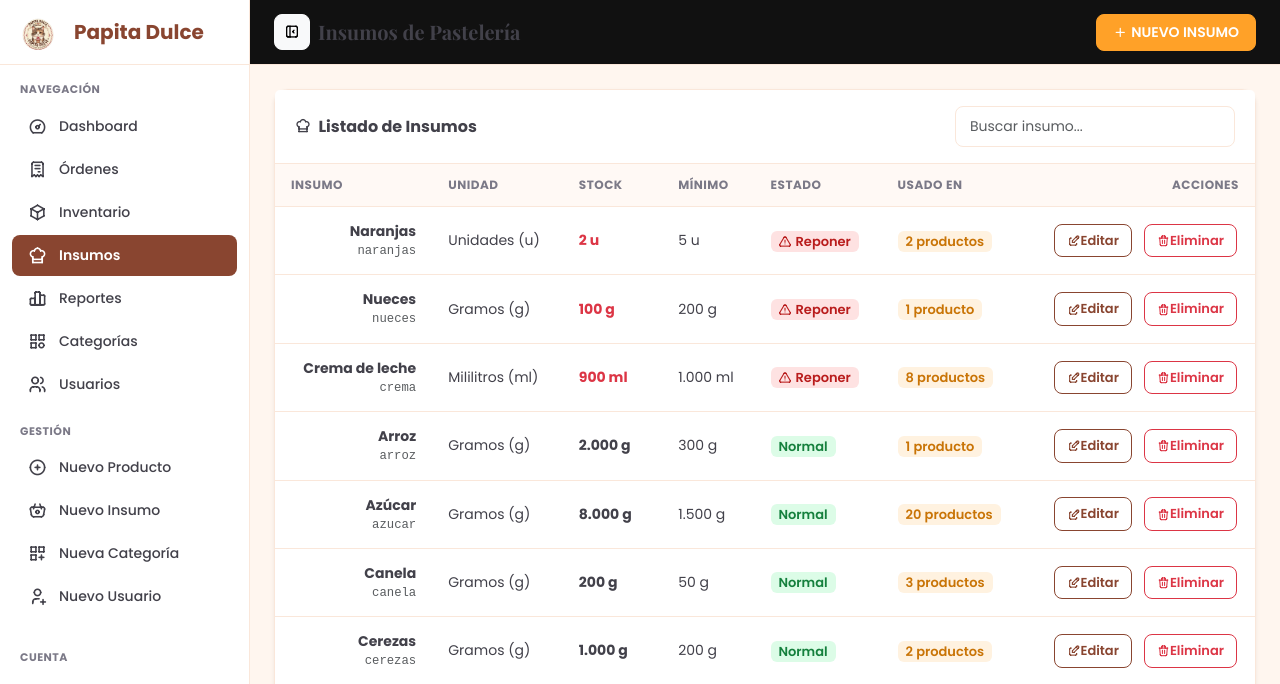
Página de Insumos › no deja eliminar un insumo que usa alguna receta
In the field with placeholder "Buscar insumo...": point(1095, 126) [955,106,1235,147], type "harina"
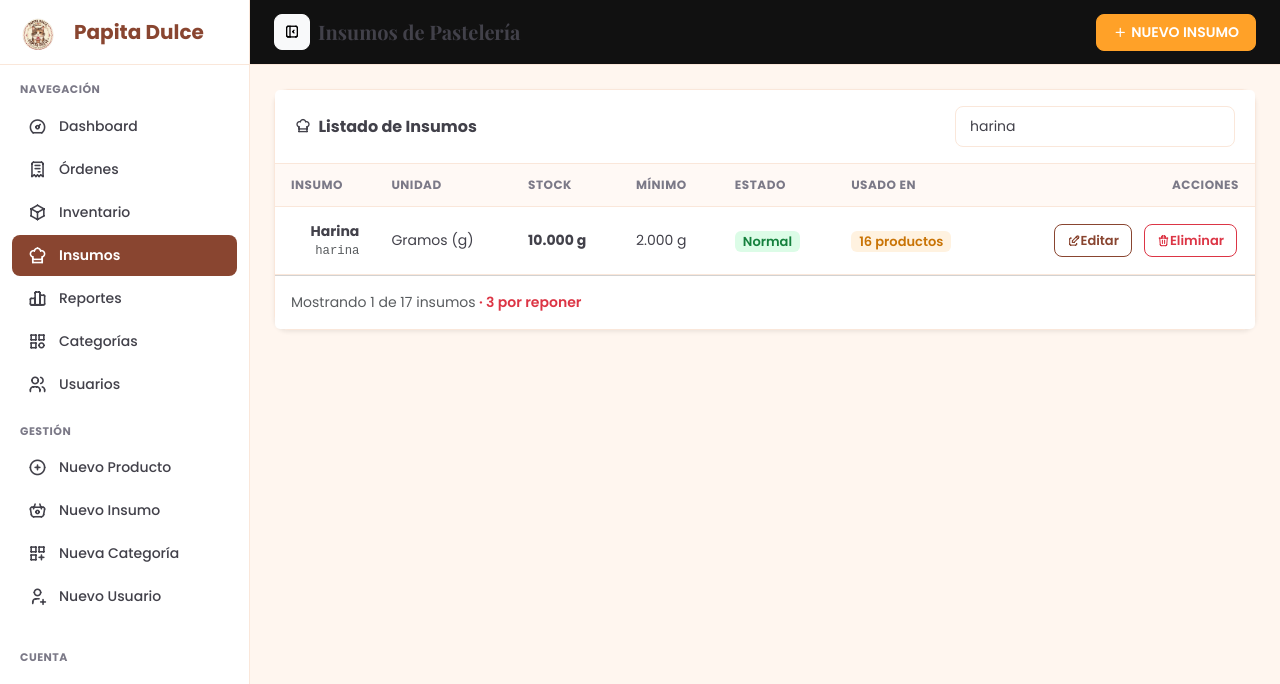
Click the button "Eliminar": point(1190, 241) [1144,224,1237,257]
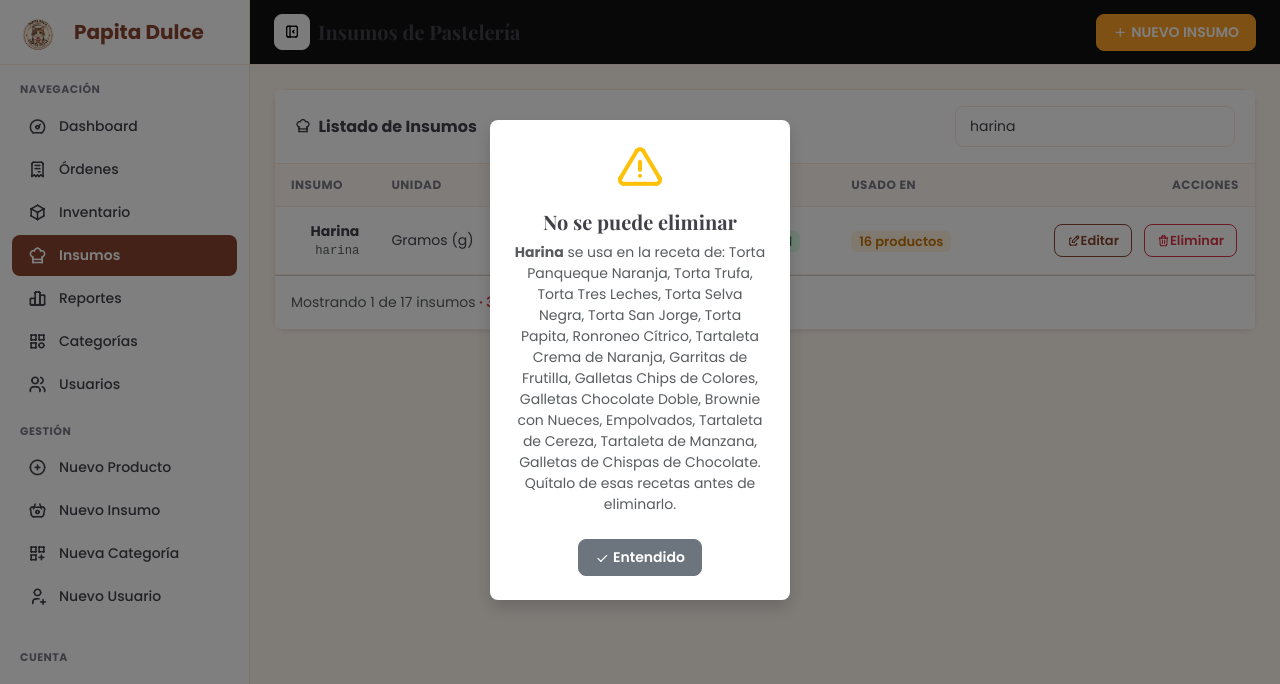
Now the heading "No se puede eliminar" is shown, box [543,208,737,235]
